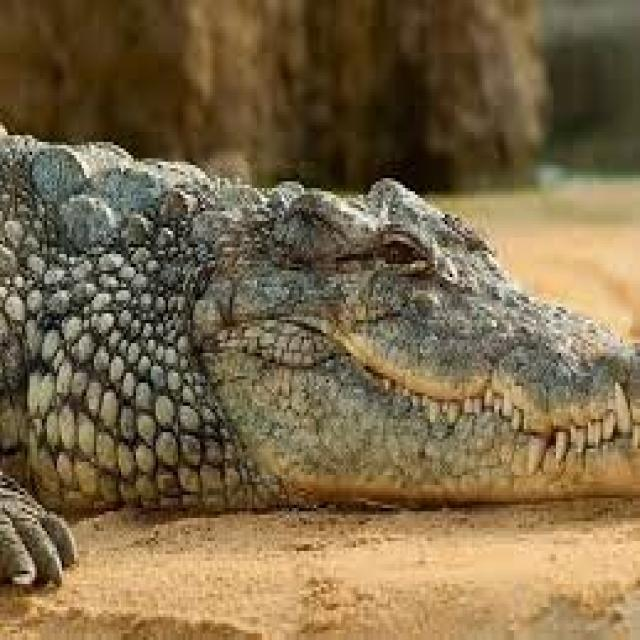Carnivorous: (0, 129, 640, 587)
